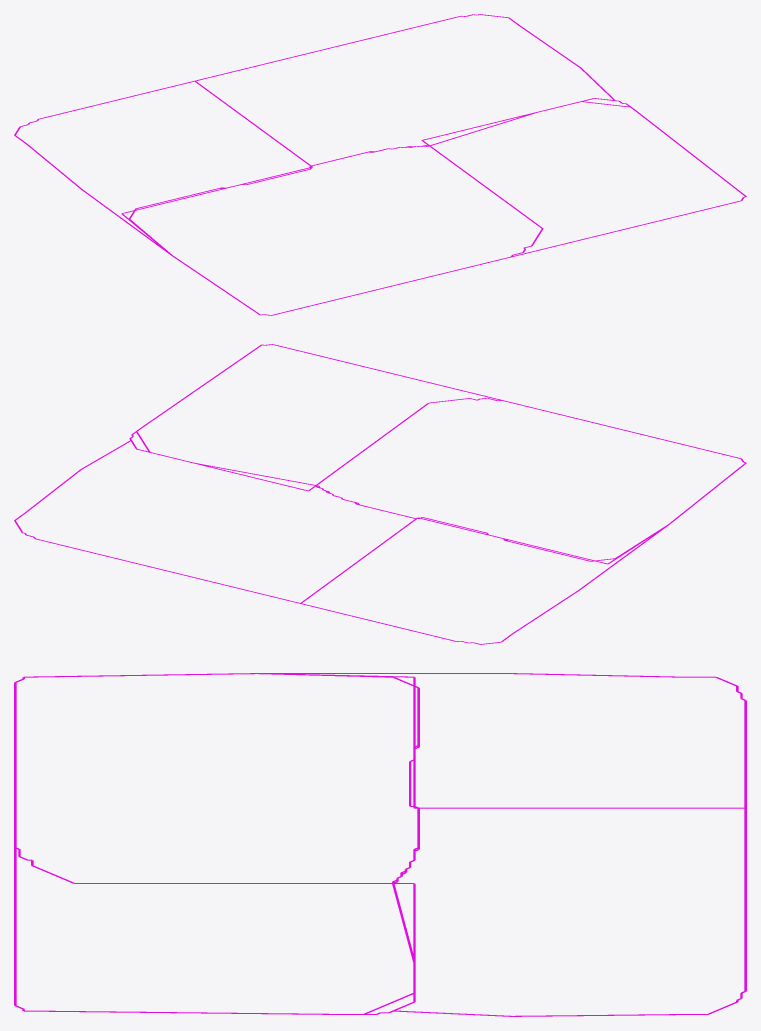
File: route_overlay_code_transform_magenta.dae
The picture shows the model from 3 angles, top to bottom: view 1: azimuth 30°, elevation 25°; view 2: azimuth 150°, elevation 25°; view 3: azimuth 270°, elevation 25°; orthographic projection. The views are drawn at different scales.
Visible parts, largest first — view 1: route_preview_node; view 2: route_preview_node; view 3: route_preview_node.
Part boxes in pixels (bbox=[...]): route_preview_node: bbox=[14, 14, 746, 315]; route_preview_node: bbox=[14, 344, 746, 644]; route_preview_node: bbox=[14, 673, 746, 1016].
Size of the model in its own units: 4.49 by 4.05 by 0.
